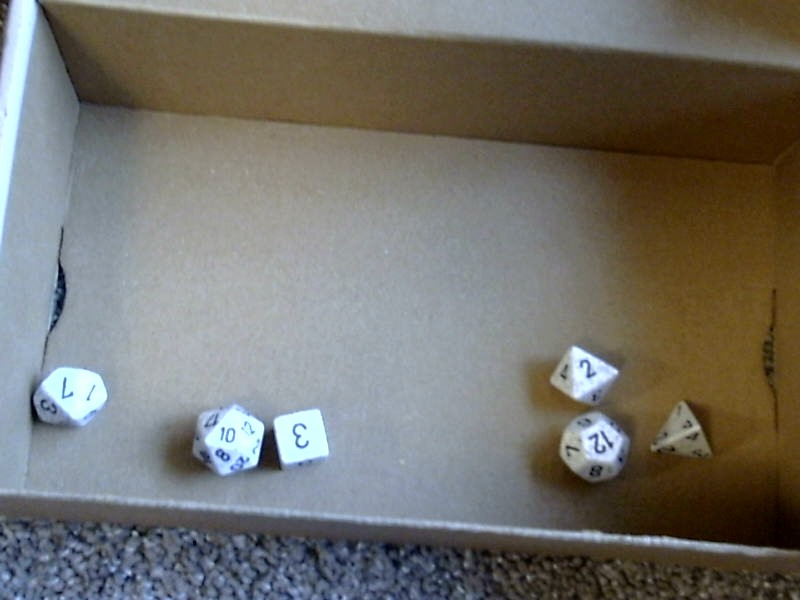d10 7: (26, 359, 112, 434)
d12 12: (552, 412, 642, 492)
d20 10: (186, 399, 268, 480)
d4 4: (643, 396, 715, 471)
d6 3: (271, 402, 338, 475)
d8 2: (547, 341, 621, 407)
